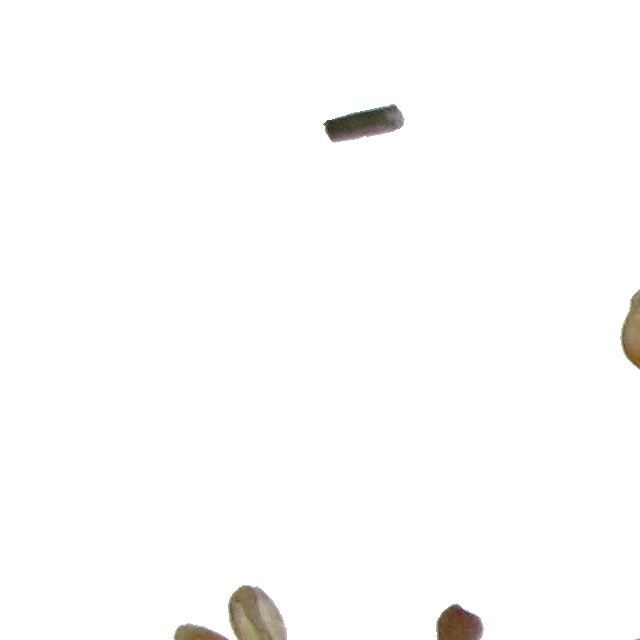buckwheat: (322, 103, 406, 144), (435, 602, 485, 640)
mais: (619, 283, 640, 378), (172, 622, 253, 640), (604, 635, 640, 640)
other: (227, 584, 288, 640)
